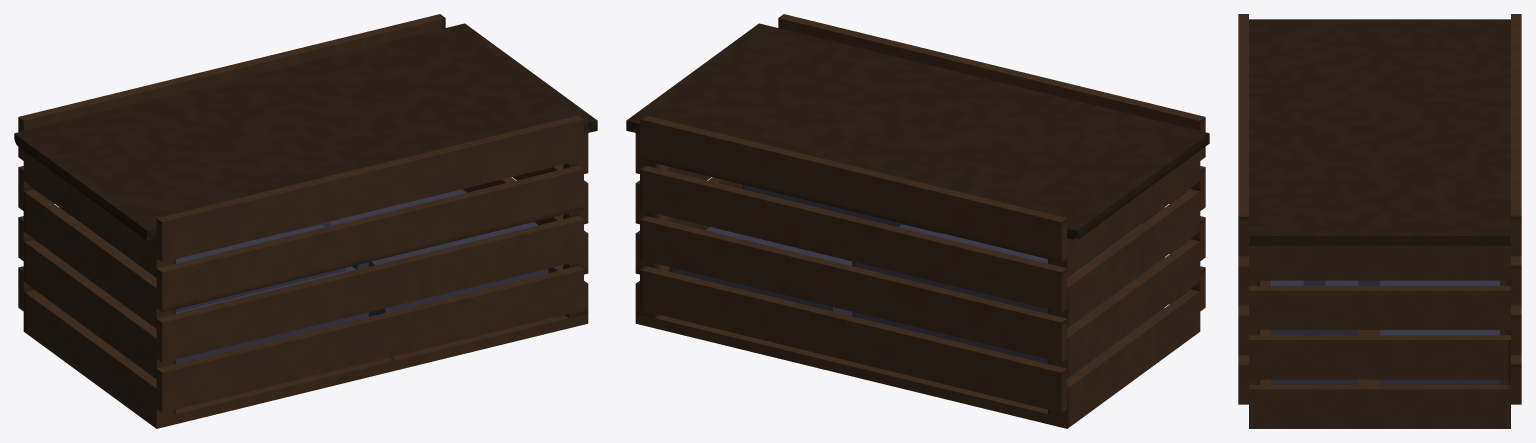
Rendered from skrzynia_02.dae.
3 renders of one model, left to right at view 1: azimuth 30°, elevation 25°; view 2: azimuth 150°, elevation 25°; view 3: azimuth 270°, elevation 25°, orthographic.
Visible parts, largest first — view 1: Content; view 2: Content; view 3: Content.
Part boxes in pixels (bbox=[...]): Content: bbox=[14, 14, 597, 428]; Content: bbox=[626, 14, 1209, 428]; Content: bbox=[1238, 14, 1521, 428].
Size of the model in its own units: 47 by 21 by 26.
1 material, 1 textured.
